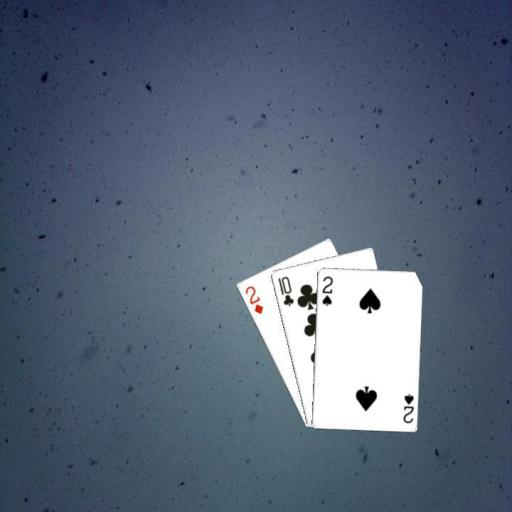10C: (275, 273, 295, 307)
2D: (242, 283, 265, 316)
2S: (319, 273, 334, 307), (400, 391, 415, 425)
